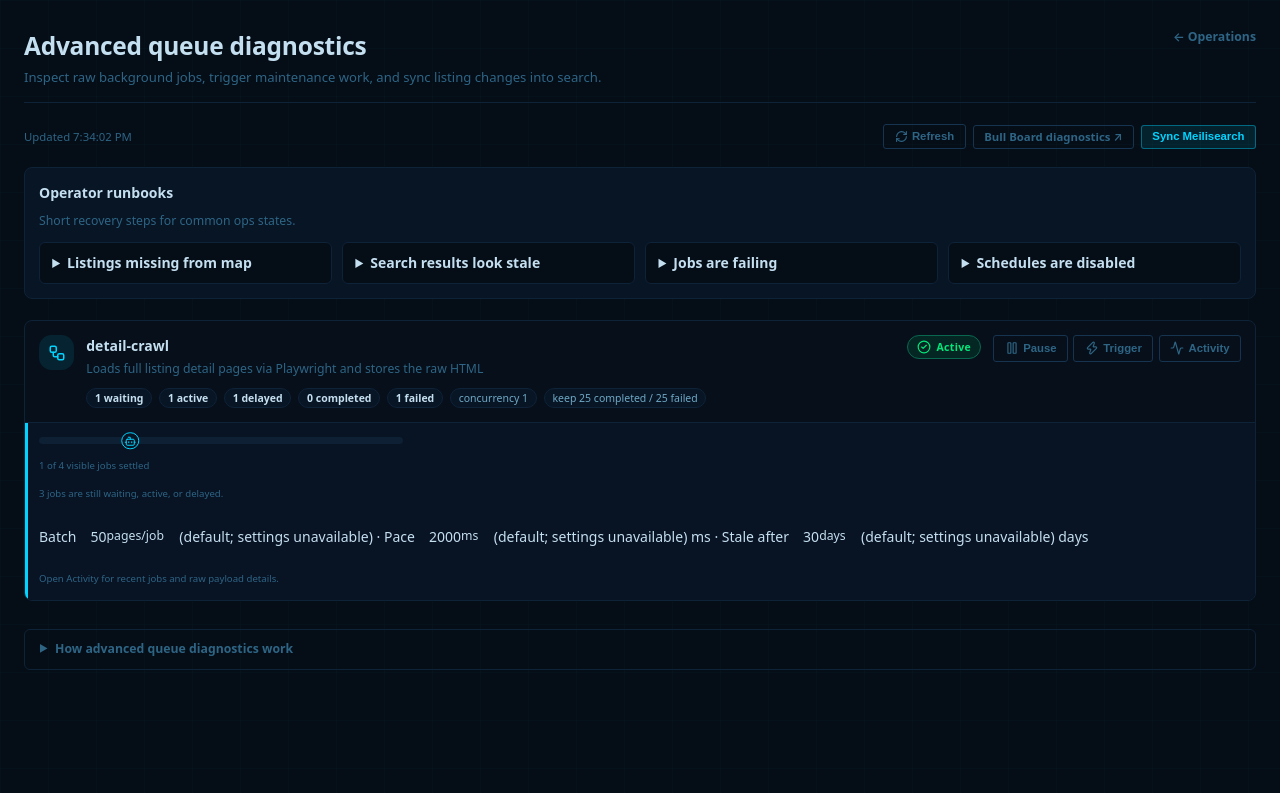
Scenario: QueuesClient per-job controls (#1152) › shows a visible message on 409
The width and height of the screenshot is (1280, 793).
Click the button "Activity" at (1200, 348), box x1=1159 y1=335 x2=1241 y2=362
(page scrolled)
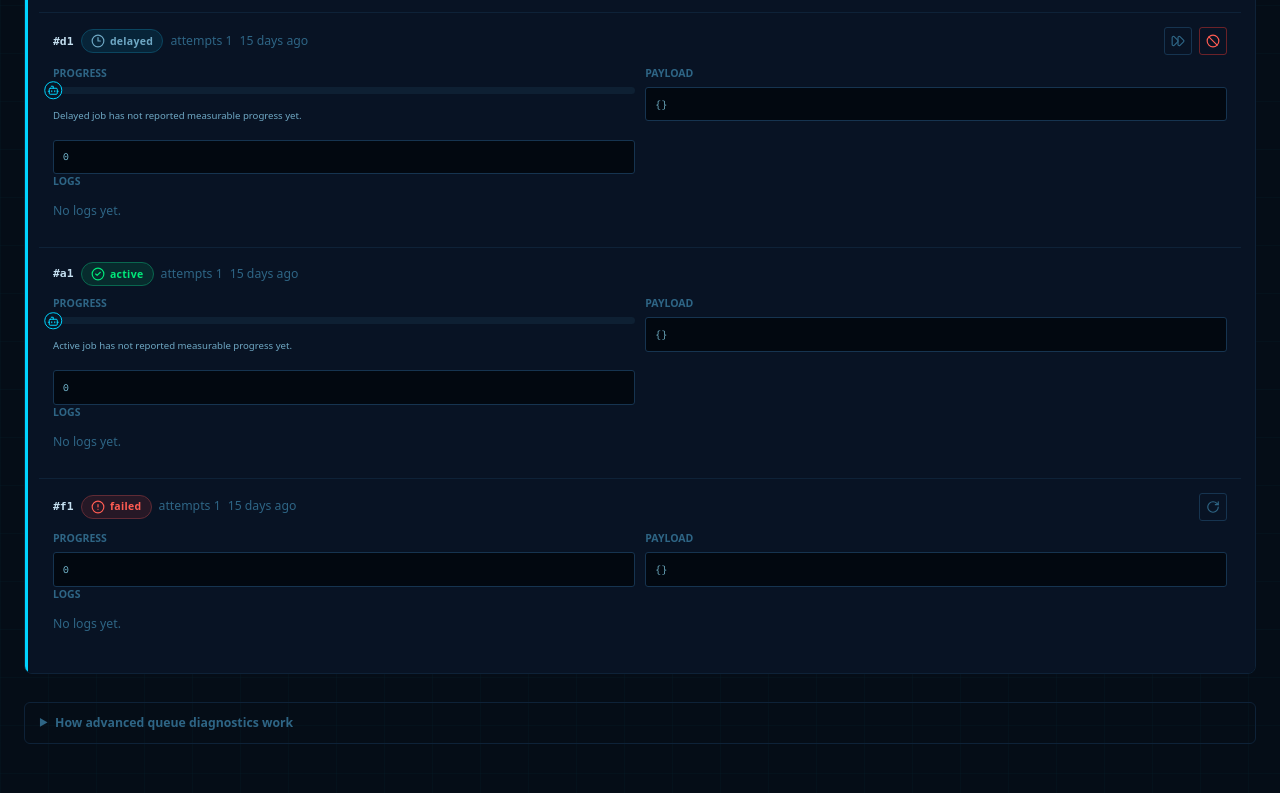
Click the button named "Retry job #f1" at (1213, 507), box x1=1199 y1=493 x2=1227 y2=521
(page scrolled)
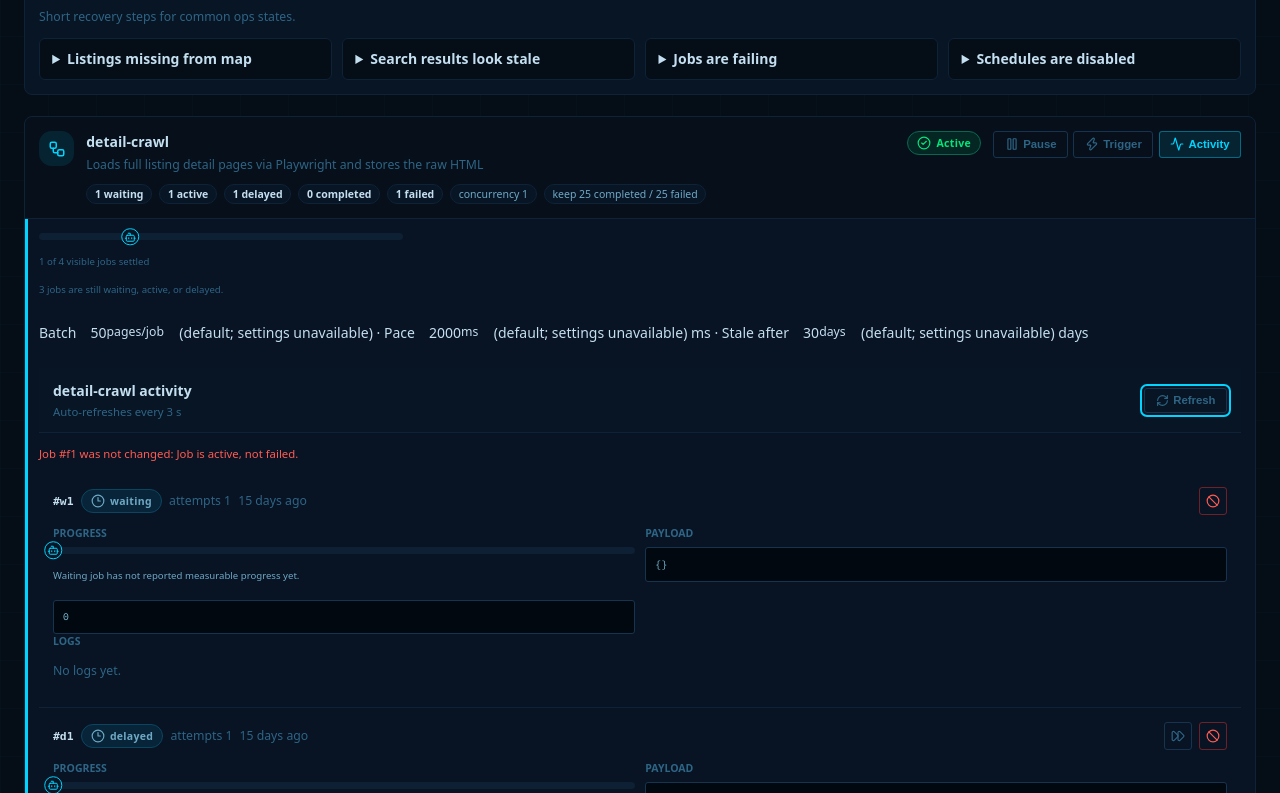
Result: the message "Job #f1 was not changed: Job is active, not failed." is shown at x1=39 y1=446 x2=298 y2=461
